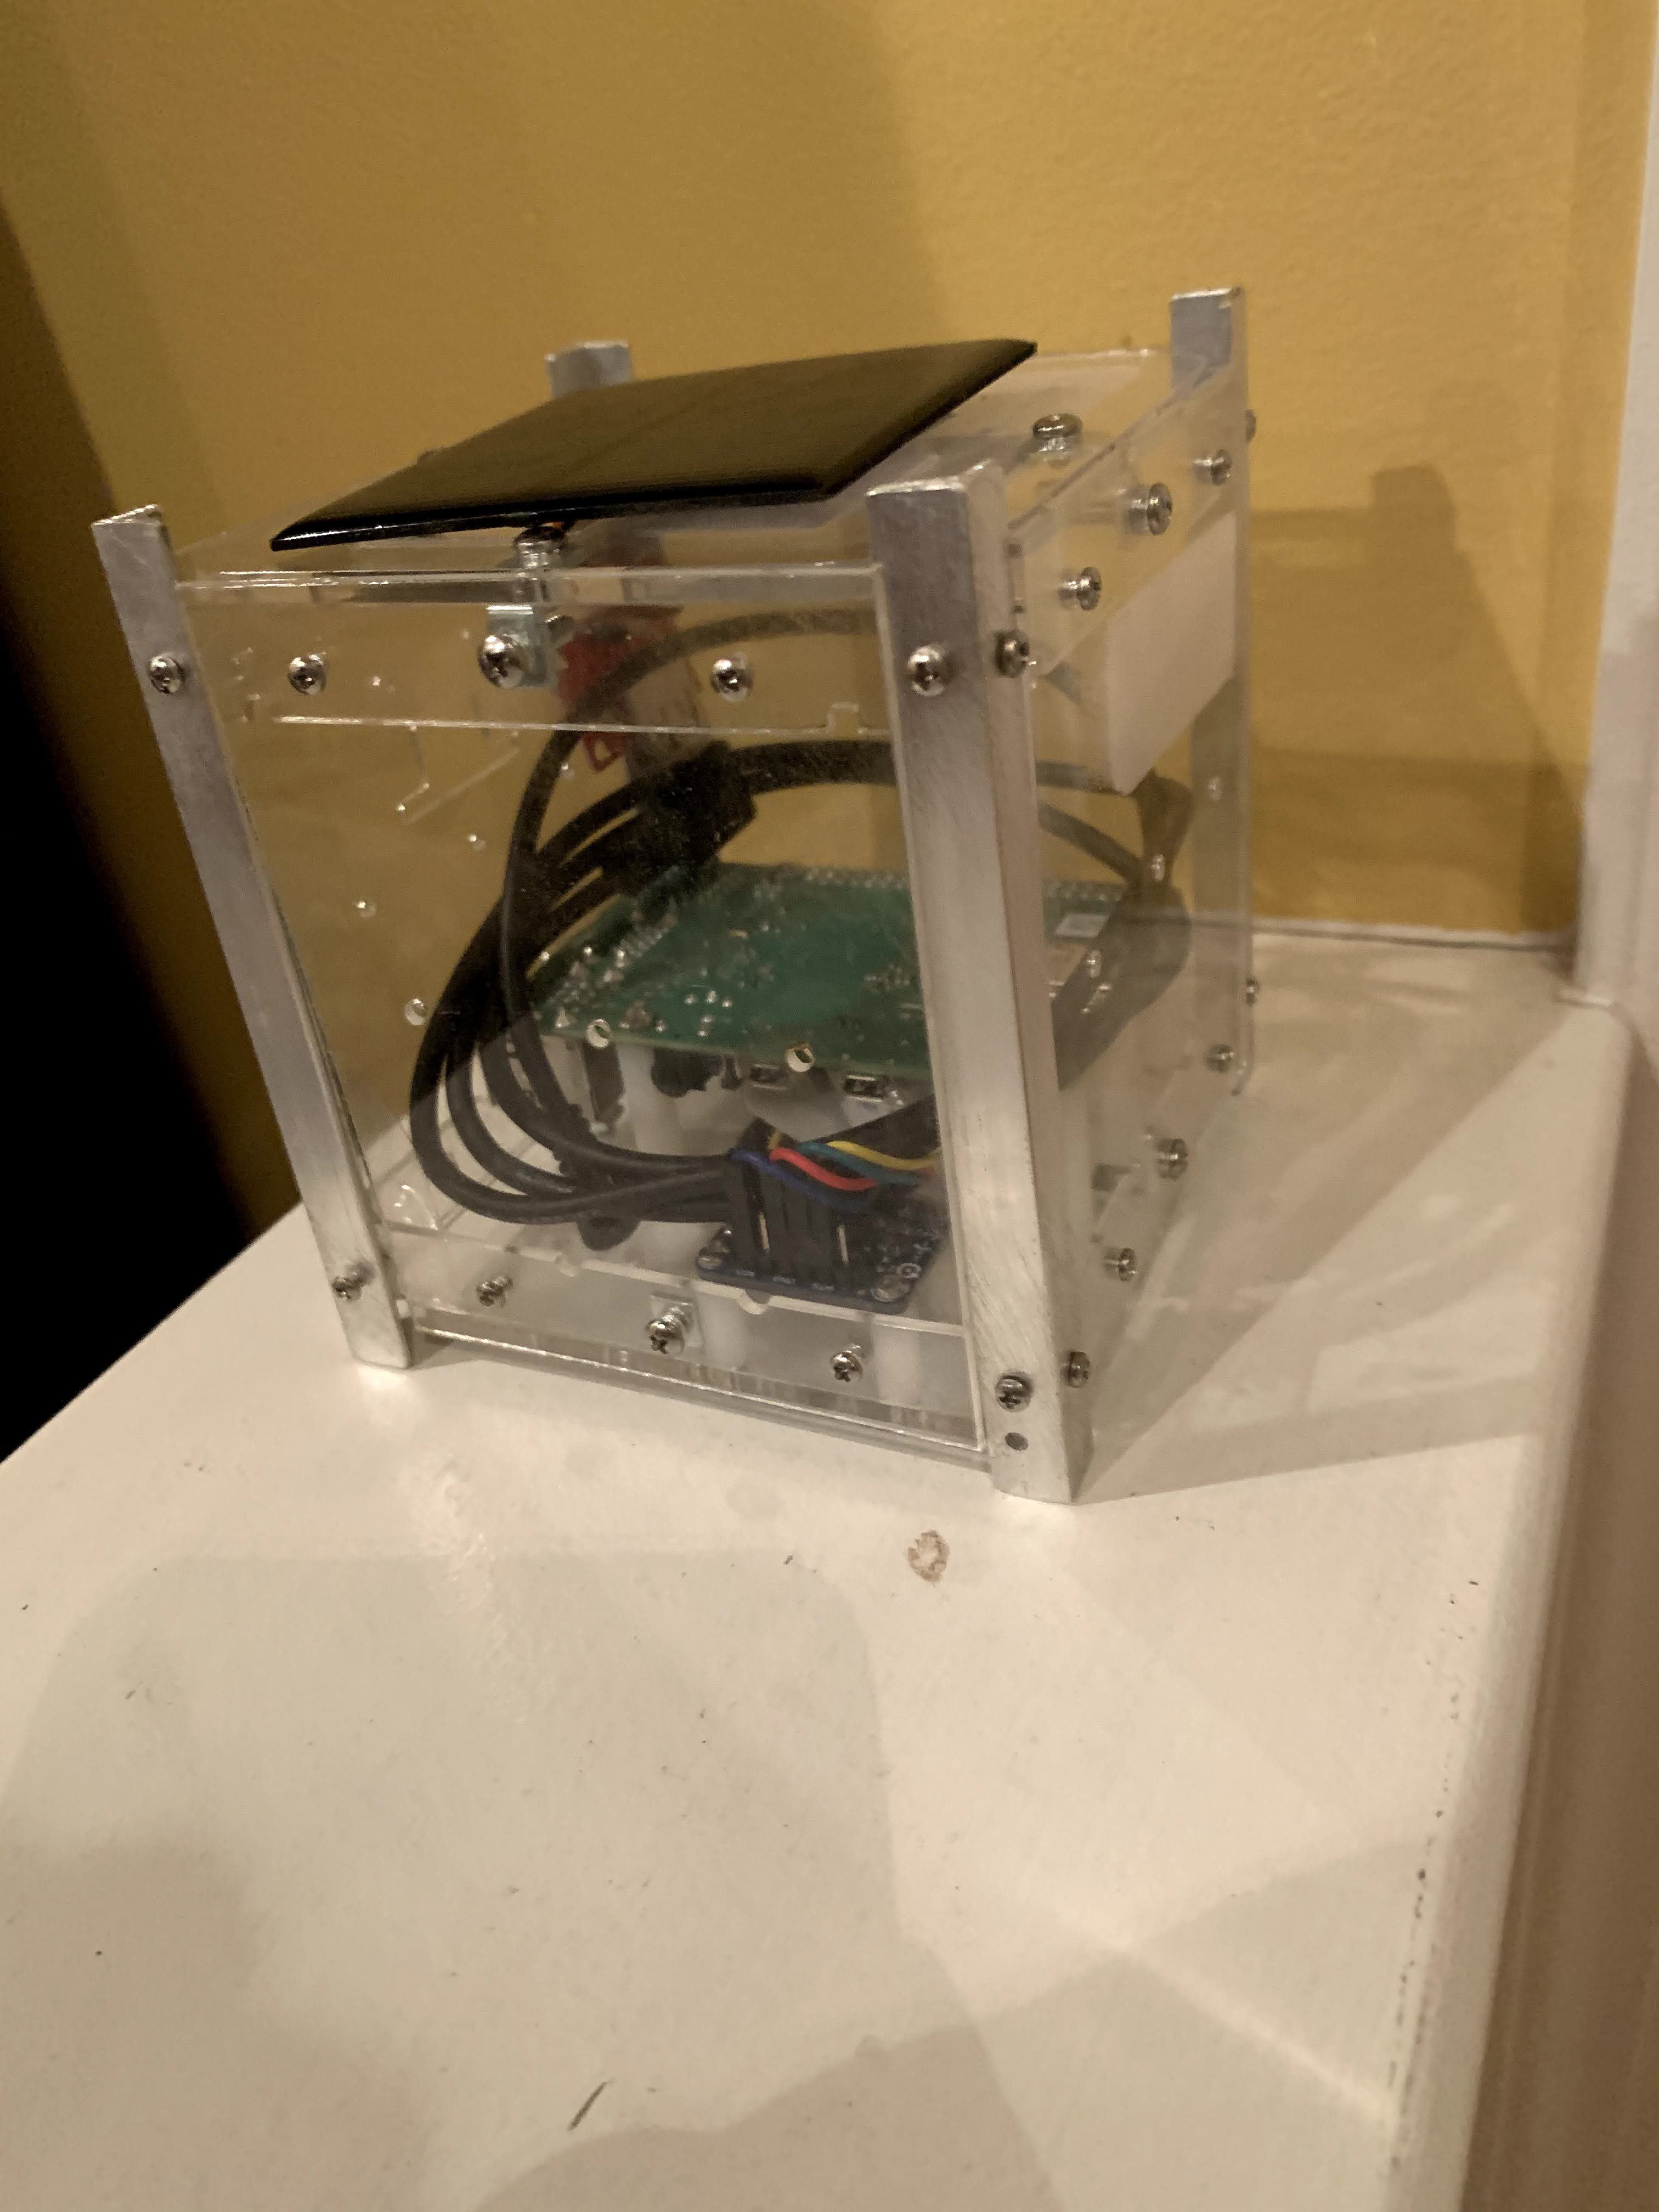Space-debris-cubesat: (59, 256, 1371, 1514)
